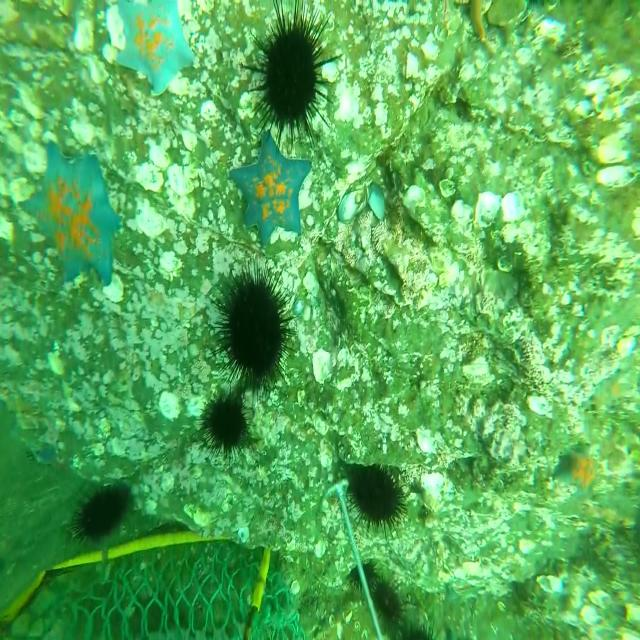echinus: (238, 0, 343, 159), (207, 255, 301, 412), (345, 462, 410, 542), (197, 388, 256, 464), (68, 480, 132, 548), (368, 575, 402, 626), (347, 556, 380, 595), (390, 618, 440, 640)
starfish: (21, 140, 122, 287), (228, 126, 312, 250), (114, 0, 197, 98)
